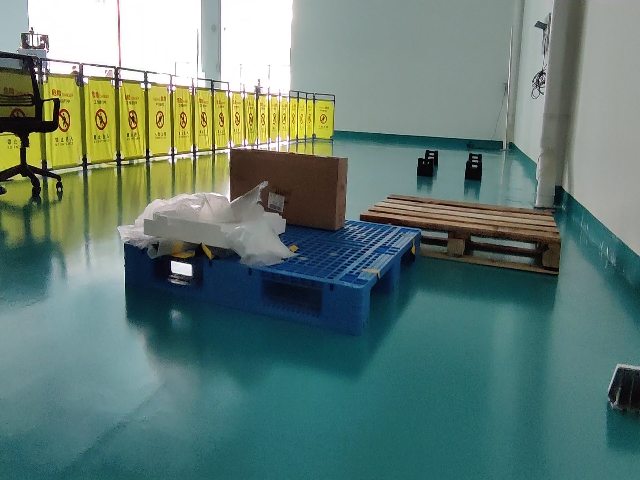block: (316, 281, 372, 335), (202, 257, 262, 307), (124, 244, 164, 289), (385, 254, 401, 290), (414, 230, 421, 262)
front: (362, 232, 420, 337)
hole pallet: (370, 268, 394, 317), (400, 244, 415, 283)
